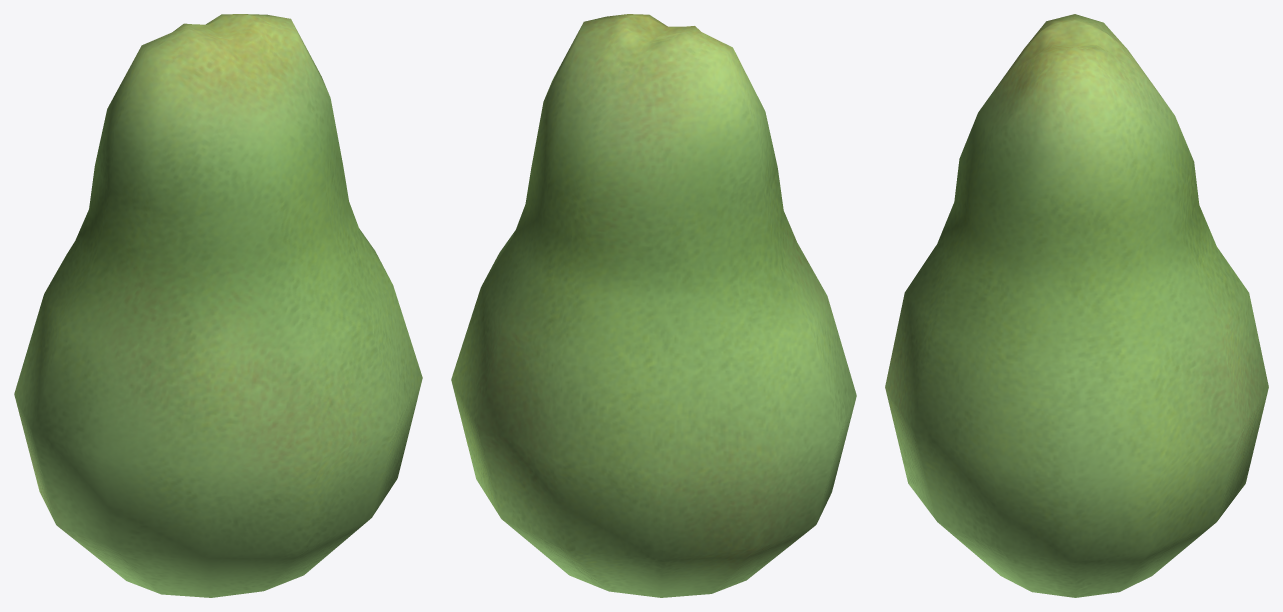
File: pearremove.fbx
3 renders of one model, left to right at view 1: azimuth 30°, elevation 25°; view 2: azimuth 150°, elevation 25°; view 3: azimuth 270°, elevation 25°, orthographic. The views are drawn at different scales.
Visible parts, largest first — view 1: Pear001; view 2: Pear001; view 3: Pear001.
Part boxes in pixels (x1,y1,x2,y2): Pear001: [14, 14, 422, 597]; Pear001: [451, 14, 856, 597]; Pear001: [885, 14, 1268, 597].
Size of the model in its own units: 52.76 by 76.07 by 48.52.
